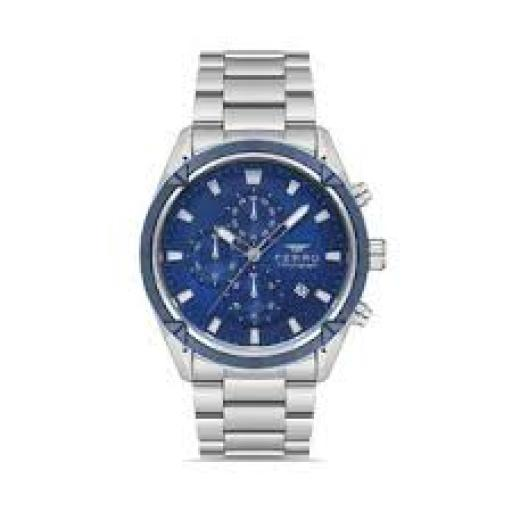KolSaati: (138, 30, 397, 474)
